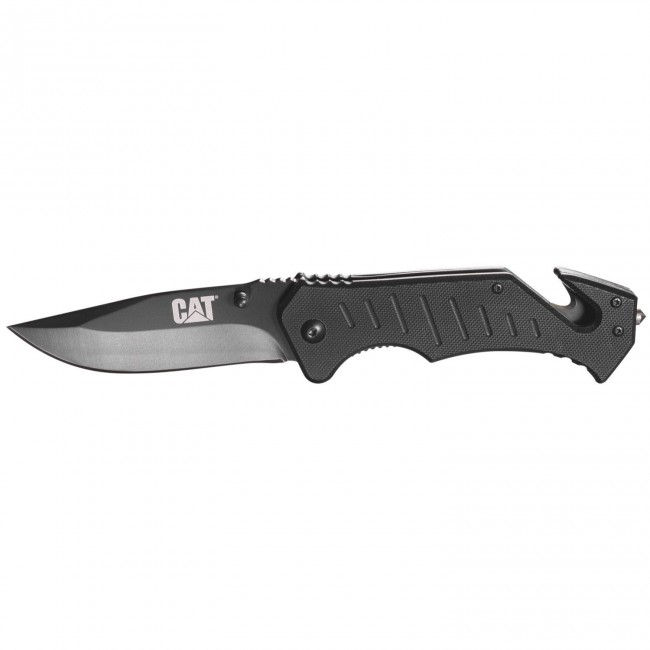knife: (8, 267, 640, 383)
